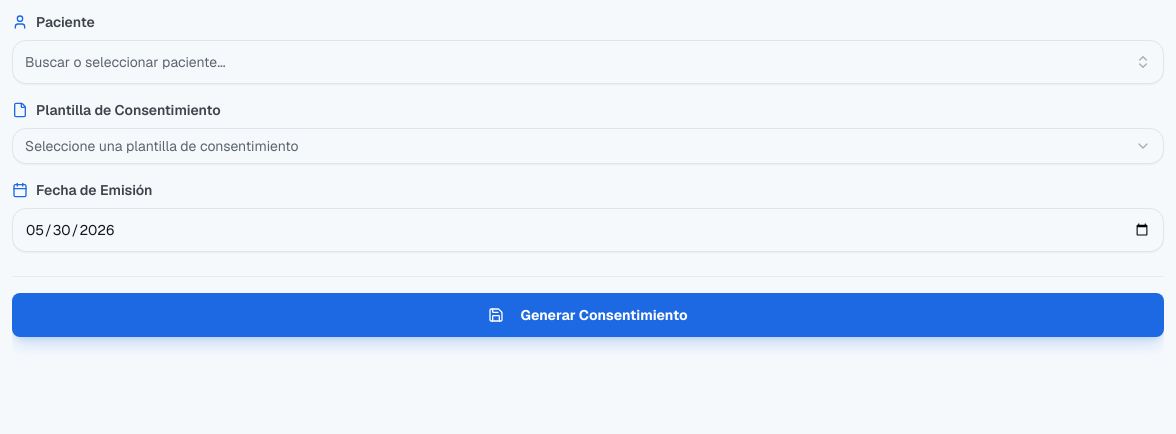
Test: InformedConsentForm › debería mostrar errores de validación si el formulario se envía vacío o incompleto
Click the button "Generar Consentimiento" at (588, 315), box [12,293,1164,337]
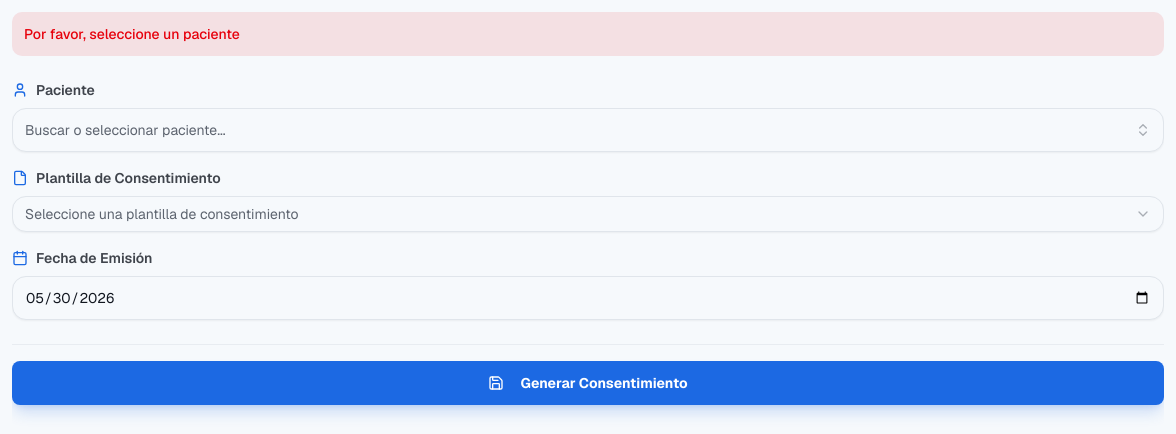
expect the text "Por favor, seleccione un paciente" is shown: met, box [12,12,1164,56]
